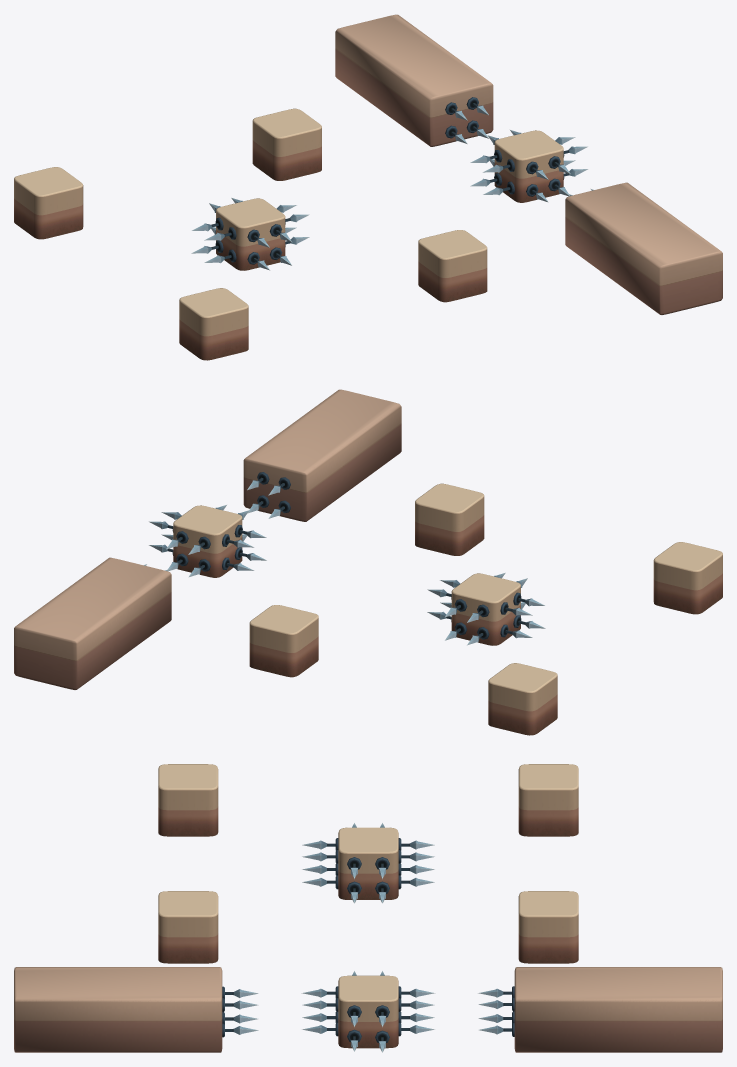
Rendered from Props.fbx.
3 renders of one model, top to bottom at view 1: azimuth 30°, elevation 25°; view 2: azimuth 150°, elevation 25°; view 3: azimuth 270°, elevation 25°, orthographic. The views are drawn at different scales.
Parts seen in each view (by area): view 1: Box01 (×6), Box20-2 (2), Box20-2 (3); view 2: Box01 (×6), Box20-2 (3), Box20-2 (2); view 3: Box01 (×6), Box20-2 (2), Box20-2 (3).
Boxes of the visible parts, x1,y1,x2,y2 form: Box01 (×6): [14, 108, 563, 360]; Box20-2 (2): [565, 182, 722, 314]; Box20-2 (3): [335, 14, 493, 146]; Box01 (×6): [173, 483, 722, 735]; Box20-2 (3): [14, 557, 171, 689]; Box20-2 (2): [243, 389, 401, 521]; Box01 (×6): [158, 764, 578, 1048]; Box20-2 (2): [14, 967, 222, 1052]; Box20-2 (3): [514, 967, 722, 1052].
Bounding box in the file's own units: 29.85 × 3 × 35.4.
Materials: 3 (3 with a texture image).
